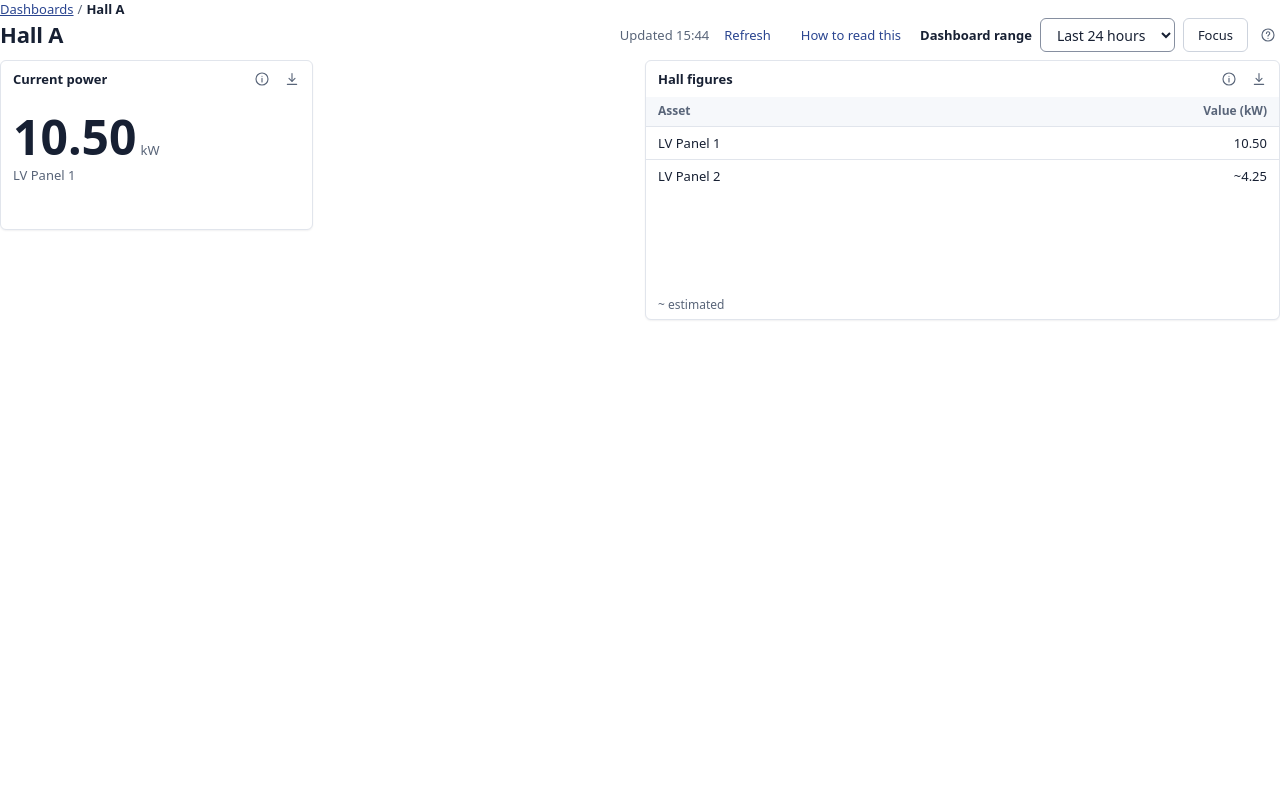
Test case: DashboardPage with a focus asset (the header) › the Focus button and the link to the asset's page › a change of focus through the dialog costs a widget with its own assets no request, and a widget that follows the focus exactly one
Expected: the text "10.50" is shown, [13,109,136,164]
Expected: the text "LV Panel 2" is shown, [646,160,960,192]
Click the button "Focus": (1215, 35) [1183,18,1248,52]
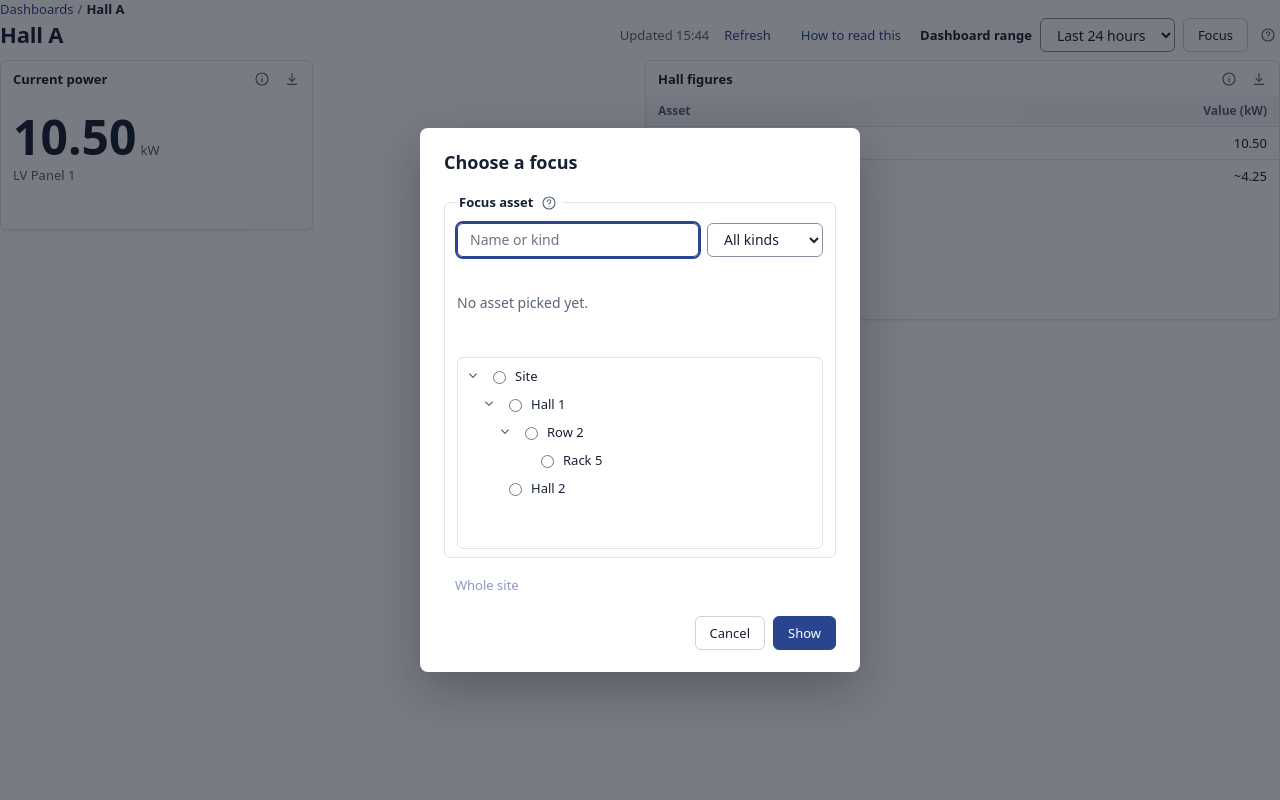
Click the radio button labelled "Hall 1": (516, 406) [509,400,522,412]
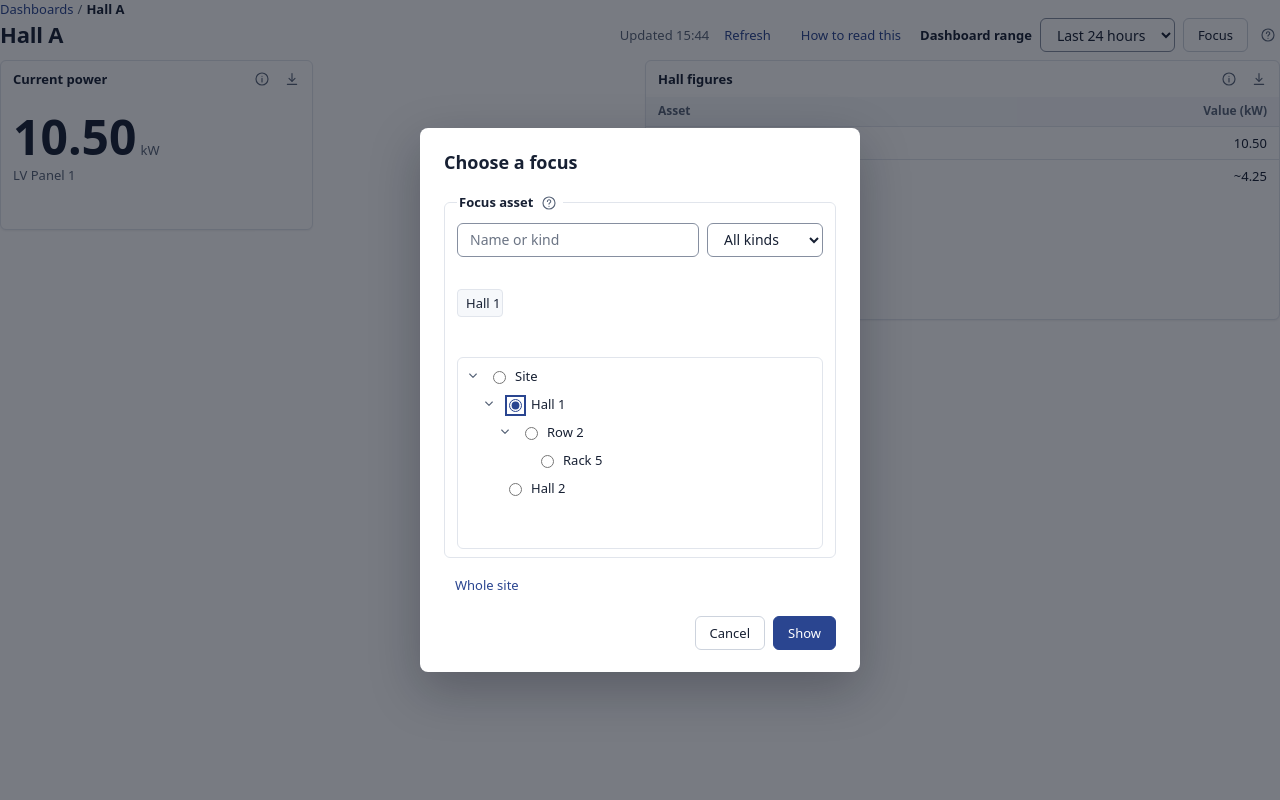
Click the button "Show": (804, 634) [773,616,836,650]
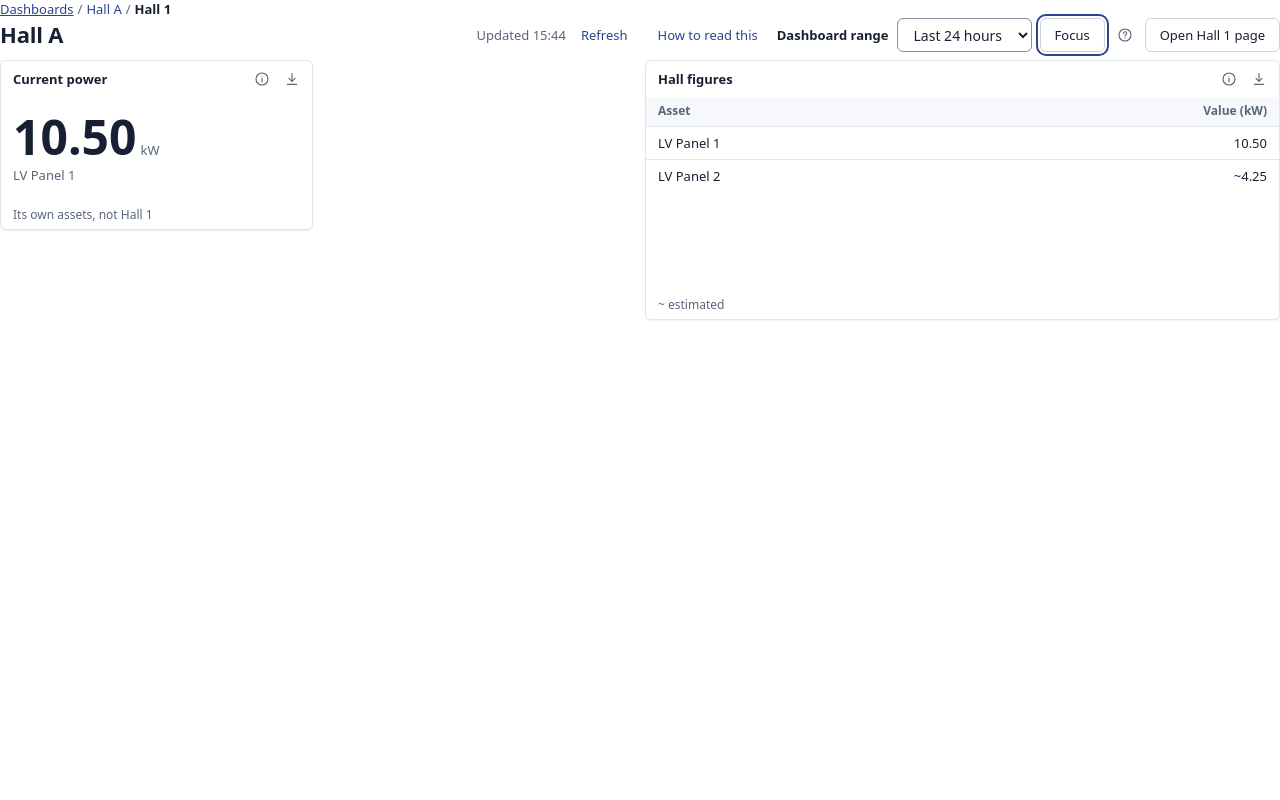
Result: the text "Its own assets, not Hall 1" is shown at [13,207,153,223]
